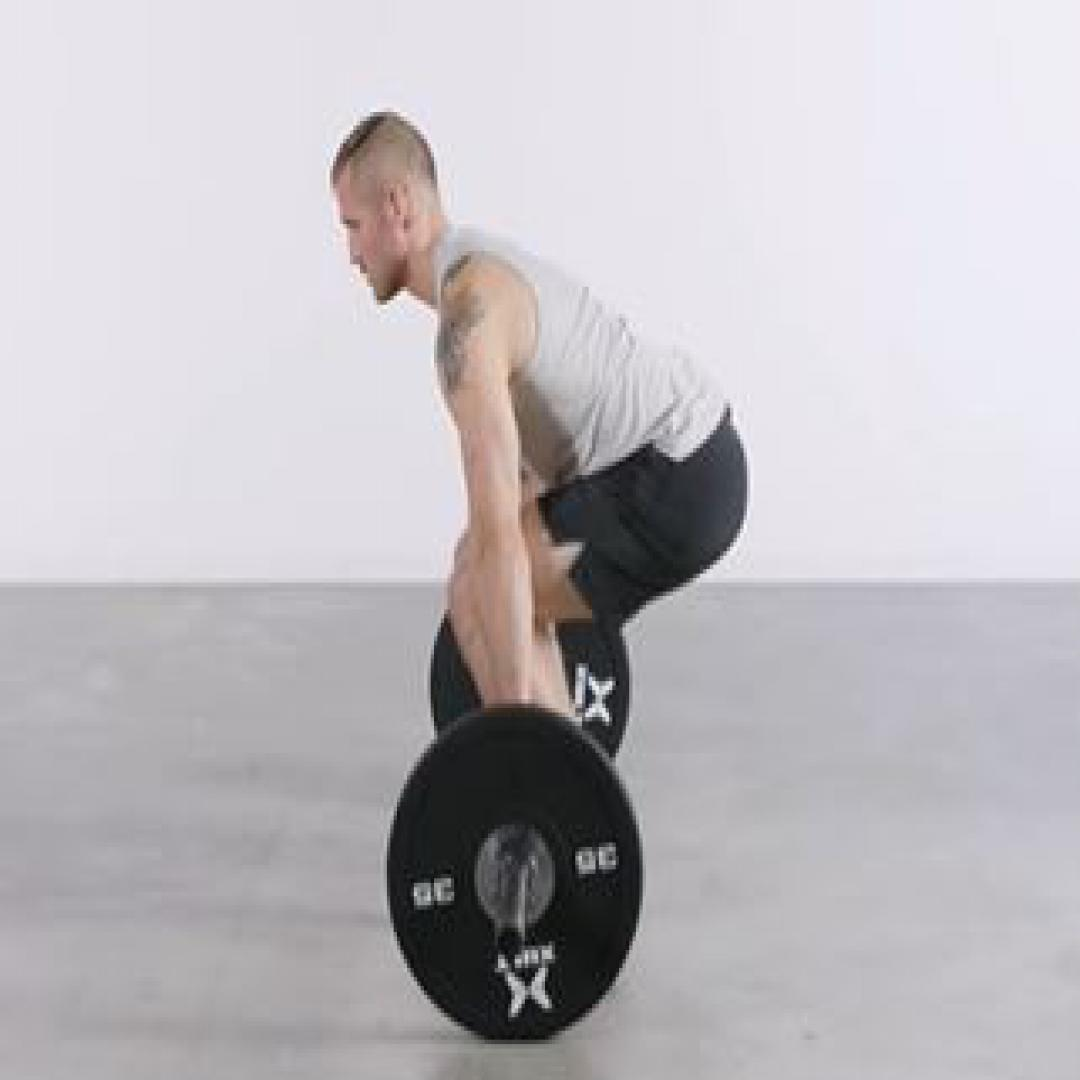Bar: (494, 919, 525, 959)
Barbell: (387, 704, 643, 1044)
